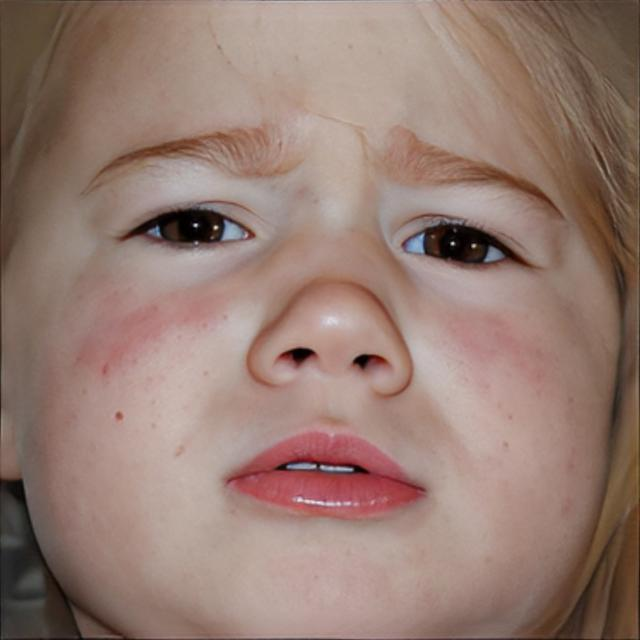sad: (23, 0, 622, 634)
